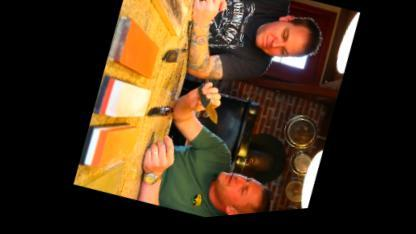knife: (183, 80, 232, 136)
